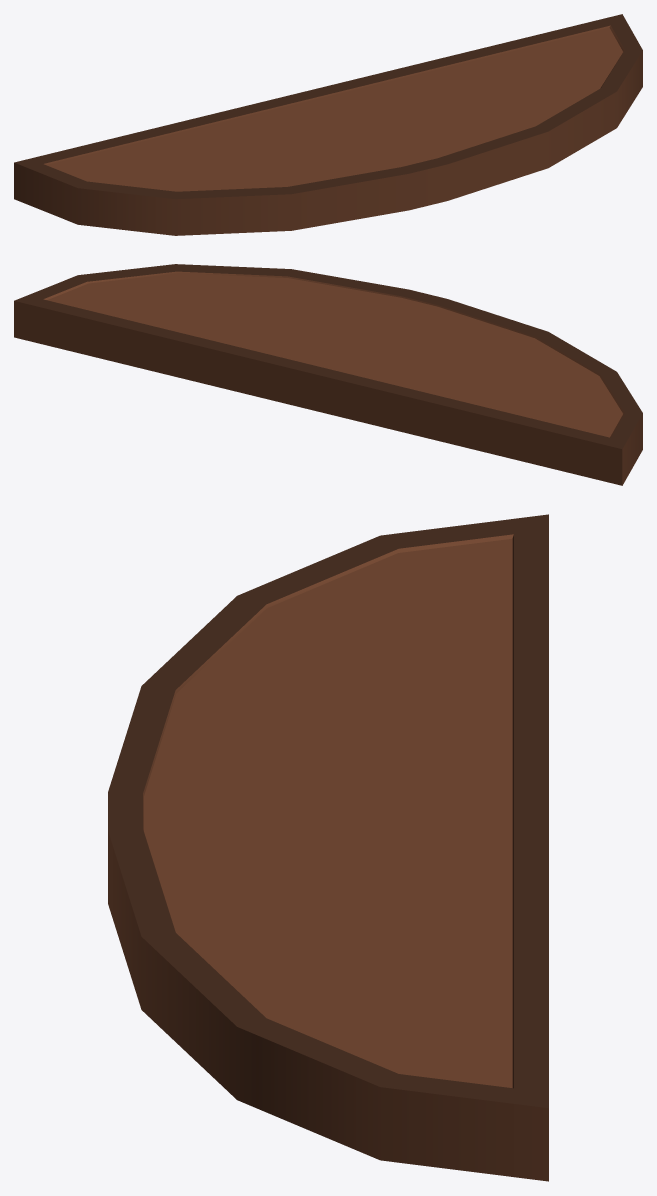
Rendered from cafeteria-serving-knife.glb.
3 views of the same model, one above another, from view 1: azimuth 30°, elevation 25°; view 2: azimuth 150°, elevation 25°; view 3: azimuth 270°, elevation 25° (orthographic). The views are drawn at different scales.
Visible parts, largest first — view 1: Object_29; view 2: Object_29; view 3: Object_29.
Boxes of the visible parts, left/top/right/bottom form: Object_29: left=14, top=14, right=642, bottom=235; Object_29: left=14, top=264, right=642, bottom=485; Object_29: left=108, top=514, right=548, bottom=1181.
Size of the model in its own units: 0.0868 by 0.005 by 0.0273.
1 material, 1 textured.
